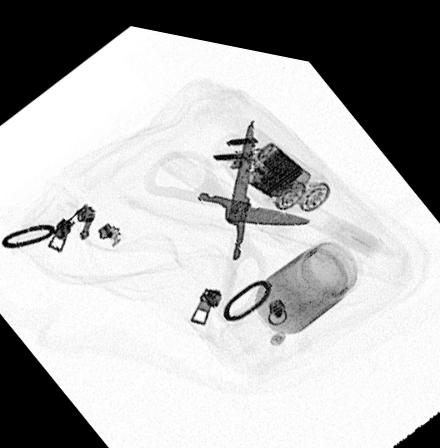Scissors: (140, 103, 316, 312)
